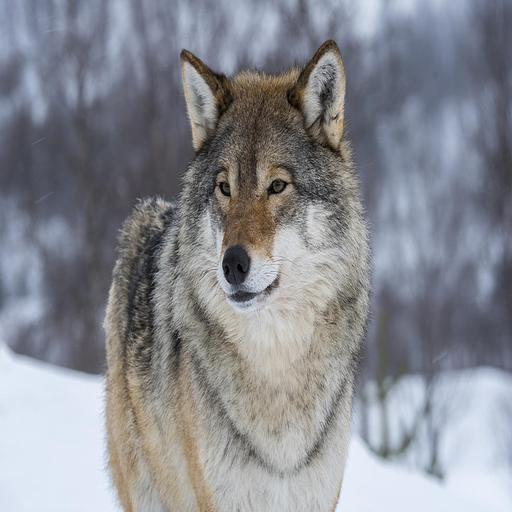Wolf: (102, 39, 375, 508)
